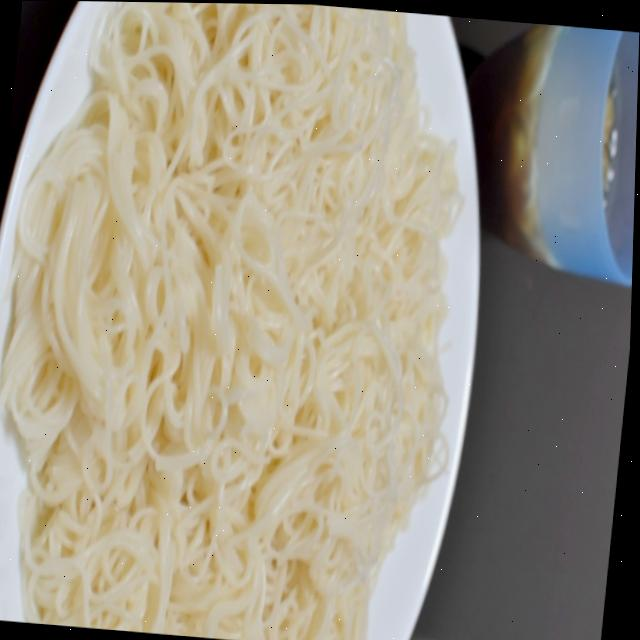面条主食: (0, 0, 580, 640)
